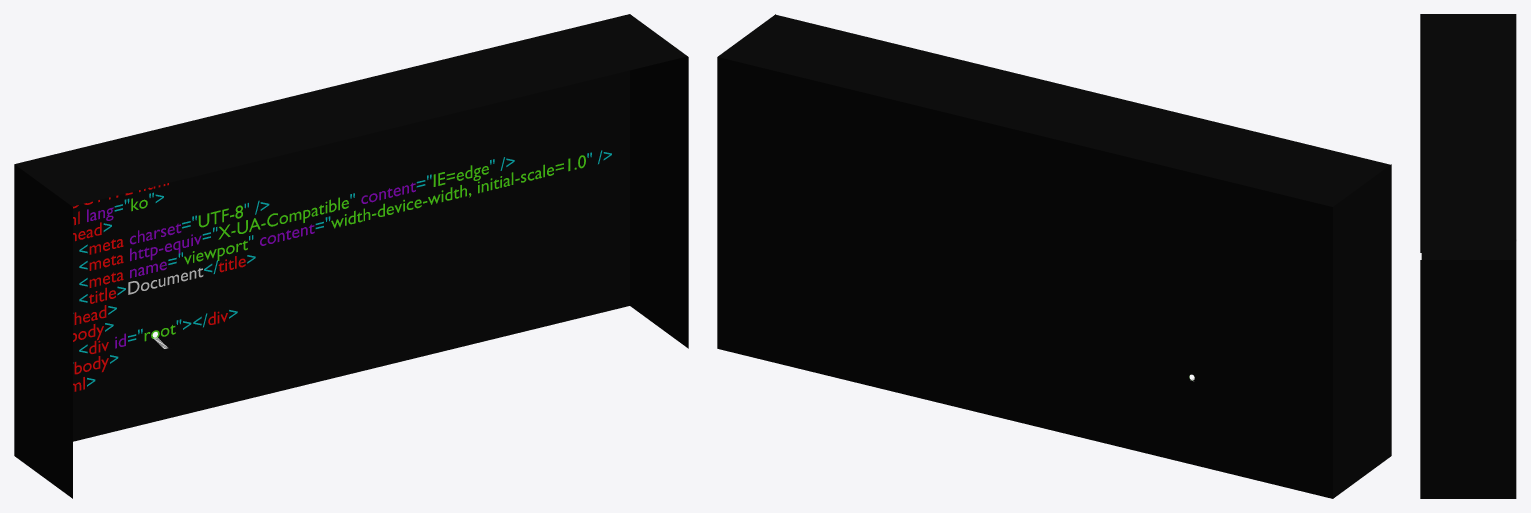
The picture shows the model from 3 angles, left to right: view 1: azimuth 30°, elevation 25°; view 2: azimuth 150°, elevation 25°; view 3: azimuth 270°, elevation 25°; orthographic projection. The views are drawn at different scales.
Parts seen in each view (by area): view 1: 평면.001, 텍스트.030, 텍스트.037; view 2: 평면.001; view 3: 평면.001.
Boxes of the visible parts, box(x1,y1,x2,y2) form: 평면.001: box(14, 14, 688, 498); 텍스트.030: box(331, 155, 585, 228); 텍스트.037: box(218, 197, 348, 239); 평면.001: box(717, 14, 1391, 498); 평면.001: box(1420, 14, 1516, 498).
Size of the model in its own units: 619 by 281 by 103.
